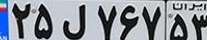character: (58, 1, 91, 40), (10, 1, 34, 40), (94, 1, 118, 40), (32, 1, 55, 40), (141, 1, 164, 39), (119, 1, 141, 40), (168, 11, 191, 40), (190, 11, 207, 40)
